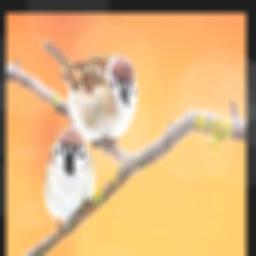Sparrow: (42, 40, 136, 154), (43, 124, 96, 241)
